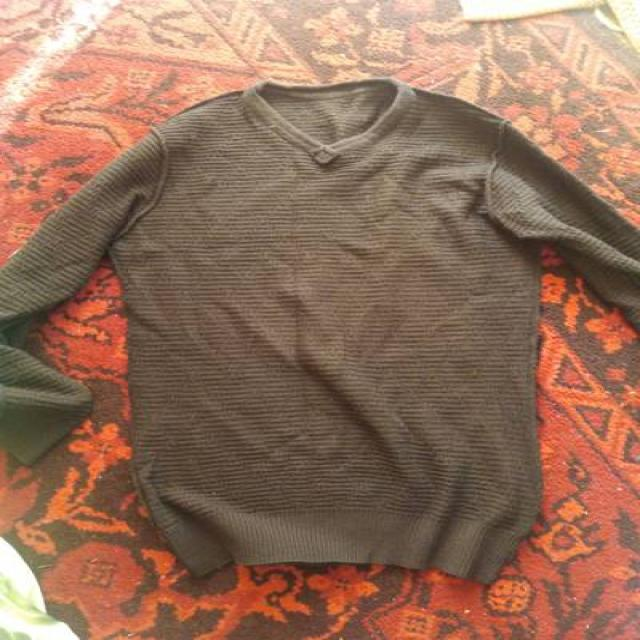Clothes -Biodegradable-: (0, 77, 640, 581)
